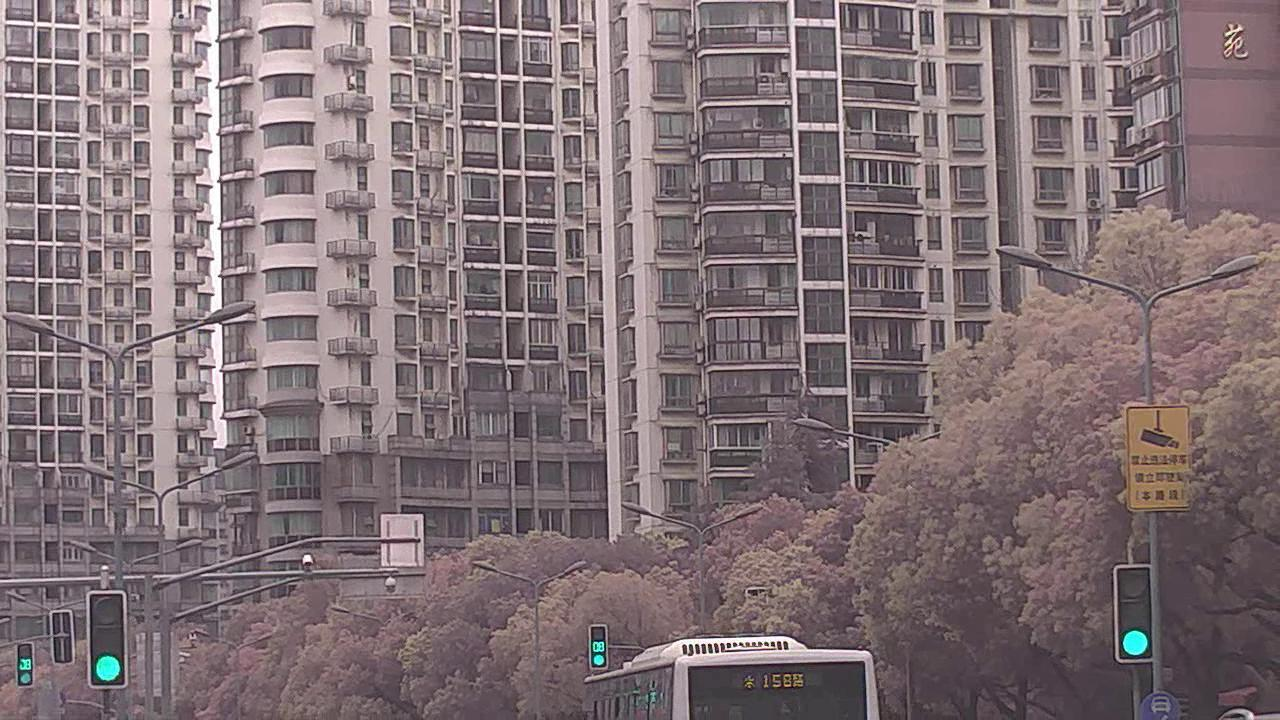traffic_light: (1114, 565, 1156, 665), (87, 589, 127, 689), (587, 622, 612, 670), (16, 642, 35, 686)
